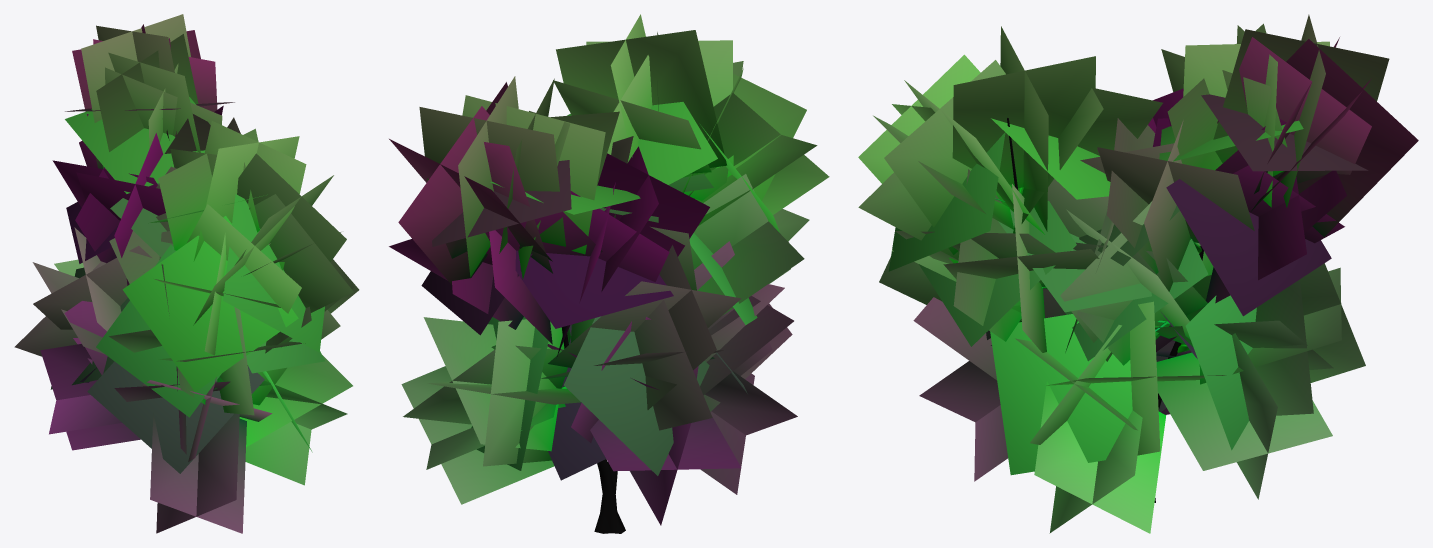
The model's file is M_Tree_1_1.fbx.
3 views of the same model, side by side, from view 1: azimuth 30°, elevation 25°; view 2: azimuth 150°, elevation 25°; view 3: azimuth 270°, elevation 25° (orthographic). The views are drawn at different scales.
Visible parts, largest first — view 1: M_Tree_1_1; view 2: M_Tree_1_1; view 3: M_Tree_1_1.
Boxes of the visible parts, left/top/right/bottom form: M_Tree_1_1: left=14, top=14, right=359, bottom=533; M_Tree_1_1: left=389, top=14, right=829, bottom=533; M_Tree_1_1: left=858, top=14, right=1418, bottom=533.
Size of the model in its own units: 664 by 993 by 1026.
